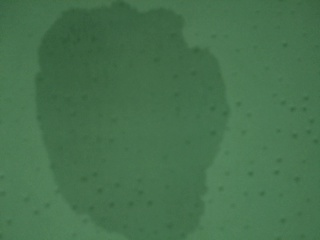Water_detected: (61, 38, 201, 200)
